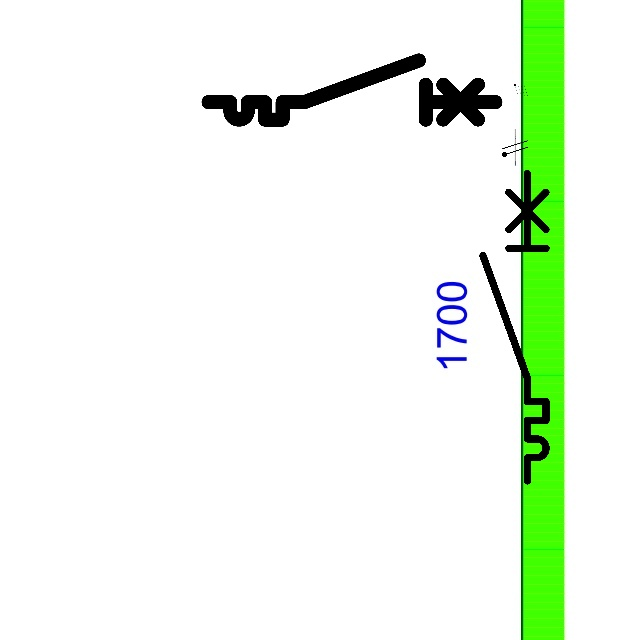interruptor_termomagnetico: (475, 165, 554, 488), (201, 53, 502, 127)
